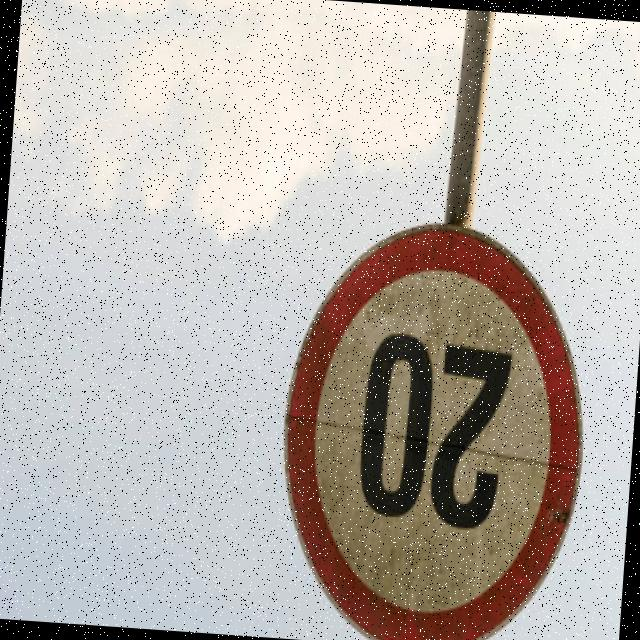speed_limit_20: (262, 209, 609, 640)
